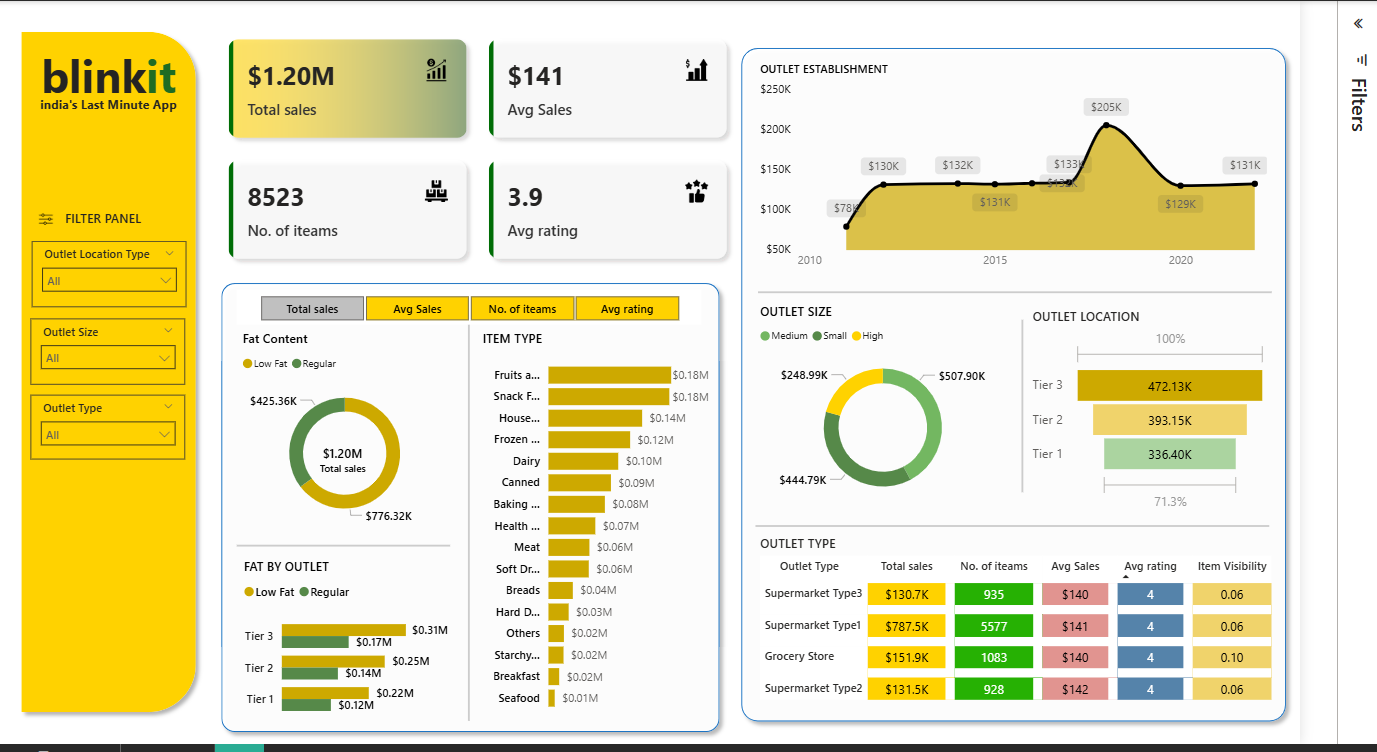

This screenshot's page, from the dashboard's own definition file:
{"tool":"powerbi","page":{"name":"Page 1","canvas":[1400,800],"ordinal":0},"visuals":[{"type":"shape","box":[16.5,24,205.6,750],"z":0},{"type":"textbox","box":[28.5,42,181.6,124.6],"z":1000},{"type":"textbox","box":[16,97,205.6,52],"z":2000},{"type":"cardVisual","fields":{"Data":["BlinkIT Grocery Data.Total sales","BlinkIT Grocery Data.Avg Sales","BlinkIT Grocery Data.No. of iteams","BlinkIT Grocery Data.Avg rating"]},"box":[231,24,570.3,270],"z":3000},{"type":"shape","box":[231,294,554,501],"z":4000},{"type":"donutChart","title":"Fat Content","fields":{"Y":["BlinkIT Grocery Data.Total sales"],"Category":["BlinkIT Grocery Data.Item Fat Content"]},"box":[258.2,353.7,230,220.6],"z":5000},{"type":"slicer","fields":{"Values":["metrix.metrix"]},"box":[256.6,310.7,499.8,37.5],"z":6000},{"type":"cardVisual","fields":{"Data":["BlinkIT Grocery Data.Total sales"]},"box":[313.7,456.3,115.6,75],"z":7000},{"type":"clusteredBarChart","title":"FAT BY OUTLET","fields":{"Y":["BlinkIT Grocery Data.Total sales"],"Category":["BlinkIT Grocery Data.Outlet Location Type"],"Series":["BlinkIT Grocery Data.Item Fat Content"]},"box":[259.6,598.5,230,185.6],"z":8000},{"type":"shape","box":[256.6,570.3,229.6,31.5],"z":9000},{"type":"shape","box":[498.3,348.2,18,426.2],"z":10000},{"type":"clusteredBarChart","title":"ITEM TYPE","fields":{"Y":["BlinkIT Grocery Data.Total sales"],"Category":["BlinkIT Grocery Data.Item Type"]},"box":[516.3,354.2,253.6,420.2],"z":11000},{"type":"shape","box":[790.9,41.7,603.9,742.4],"z":12000},{"type":"lineChart","title":"OUTLET ESTABLISHMENT","fields":{"Category":["BlinkIT Grocery Data.Outlet Establishment Year"],"Y":["BlinkIT Grocery Data.Total sales"]},"box":[815.1,64.6,555.5,232.7],"z":13000},{"type":"shape","box":[817.8,297.2,552.8,32.3],"z":14000},{"type":"donutChart","title":"OUTLET SIZE","fields":{"Y":["BlinkIT Grocery Data.Total sales"],"Category":["BlinkIT Grocery Data.Outlet Size"]},"box":[815.1,324.1,274.4,224.6],"z":15000},{"type":"shape","box":[1096.2,343,12.1,185.6],"z":16000},{"type":"funnel","title":"OUTLET LOCATION","fields":{"Y":["Sum(BlinkIT Grocery Data.Sales)"],"Category":["BlinkIT Grocery Data.Outlet Location Type"]},"box":[1108.3,329.5,262.3,224.6],"z":17000},{"type":"pivotTable","title":"OUTLET TYPE","fields":{"Values":["BlinkIT Grocery Data.Total sales","BlinkIT Grocery Data.No. of iteams","BlinkIT Grocery Data.Avg Sales","BlinkIT Grocery Data.Avg rating","Avg(BlinkIT Grocery Data.Item Visibility)"],"Rows":["BlinkIT Grocery Data.Outlet Type"]},"box":[815.1,574.3,570.3,189.6],"z":18000},{"type":"shape","box":[815.1,548.8,552.8,32.3],"z":19000},{"type":"slicer","fields":{"Values":["BlinkIT Grocery Data.Outlet Location Type"]},"box":[36.3,258.2,166.8,71.3],"z":20000},{"type":"slicer","fields":{"Values":["BlinkIT Grocery Data.Outlet Size"]},"box":[35,341.6,166.8,71.3],"z":21000},{"type":"slicer","fields":{"Values":["BlinkIT Grocery Data.Outlet Type"]},"box":[35,423.7,166.8,69.9],"z":22000},{"type":"textbox","box":[67.2,219.2,103.6,29.6],"z":23000},{"type":"image","box":[36.3,221.9,30.9,25.6],"z":24000}]}

Visuals, with their boxes on the page's 1400x800 design canvas (x1, y1, x2, y2). These are canvas units, not pixel positions in the 1377x752 screenshot, which may show the page scaled, cropped or inside an application window:
shape: [left=16, top=24, right=222, bottom=774]
textbox: [left=28, top=42, right=210, bottom=167]
textbox: [left=16, top=97, right=222, bottom=149]
cardVisual - BlinkIT Grocery Data.Total sales x BlinkIT Grocery Data.Avg Sales: [left=231, top=24, right=801, bottom=294]
shape: [left=231, top=294, right=785, bottom=795]
"Fat Content" donutChart: [left=258, top=354, right=488, bottom=574]
slicer - metrix.metrix: [left=257, top=311, right=756, bottom=348]
cardVisual - BlinkIT Grocery Data.Total sales: [left=314, top=456, right=429, bottom=531]
"FAT BY OUTLET" clusteredBarChart: [left=260, top=598, right=490, bottom=784]
shape: [left=257, top=570, right=486, bottom=602]
shape: [left=498, top=348, right=516, bottom=774]
"ITEM TYPE" clusteredBarChart: [left=516, top=354, right=770, bottom=774]
shape: [left=791, top=42, right=1395, bottom=784]
"OUTLET ESTABLISHMENT" lineChart: [left=815, top=65, right=1371, bottom=297]
shape: [left=818, top=297, right=1371, bottom=330]
"OUTLET SIZE" donutChart: [left=815, top=324, right=1090, bottom=549]
shape: [left=1096, top=343, right=1108, bottom=529]
"OUTLET LOCATION" funnel: [left=1108, top=330, right=1371, bottom=554]
"OUTLET TYPE" pivotTable: [left=815, top=574, right=1385, bottom=764]
shape: [left=815, top=549, right=1368, bottom=581]
slicer - BlinkIT Grocery Data.Outlet Location Type: [left=36, top=258, right=203, bottom=330]
slicer - BlinkIT Grocery Data.Outlet Size: [left=35, top=342, right=202, bottom=413]
slicer - BlinkIT Grocery Data.Outlet Type: [left=35, top=424, right=202, bottom=494]
textbox: [left=67, top=219, right=171, bottom=249]
image: [left=36, top=222, right=67, bottom=248]
